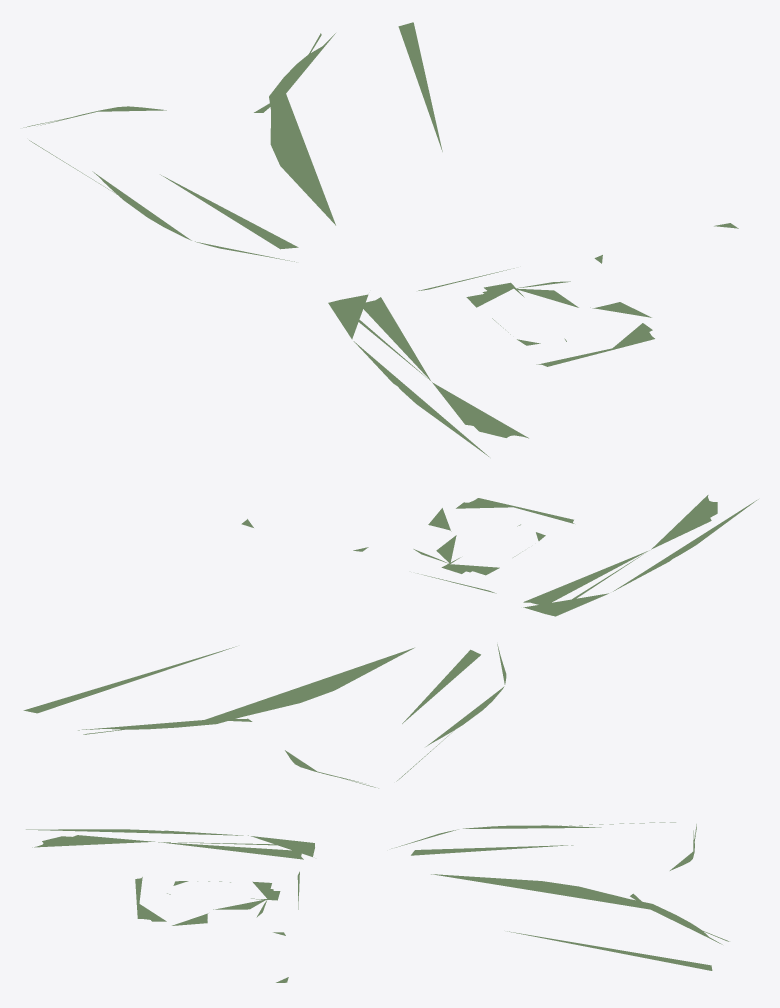
Rendered from c_1642_17815_parks.glb.
The picture shows the model from 3 angles, top to bottom: view 1: azimuth 30°, elevation 25°; view 2: azimuth 150°, elevation 25°; view 3: azimuth 270°, elevation 25°; orthographic projection. The views are drawn at different scales.
Parts seen in each view (by area): view 1: geometry_0; view 2: geometry_0; view 3: geometry_0.
Part boxes in pixels (x1=…): geometry_0: x1=23, y1=22, x2=738, y2=456; geometry_0: x1=23, y1=495, x2=758, y2=788; geometry_0: x1=26, y1=822, x2=729, y2=982.
Size of the model in its own units: 162 by 0 by 295.
